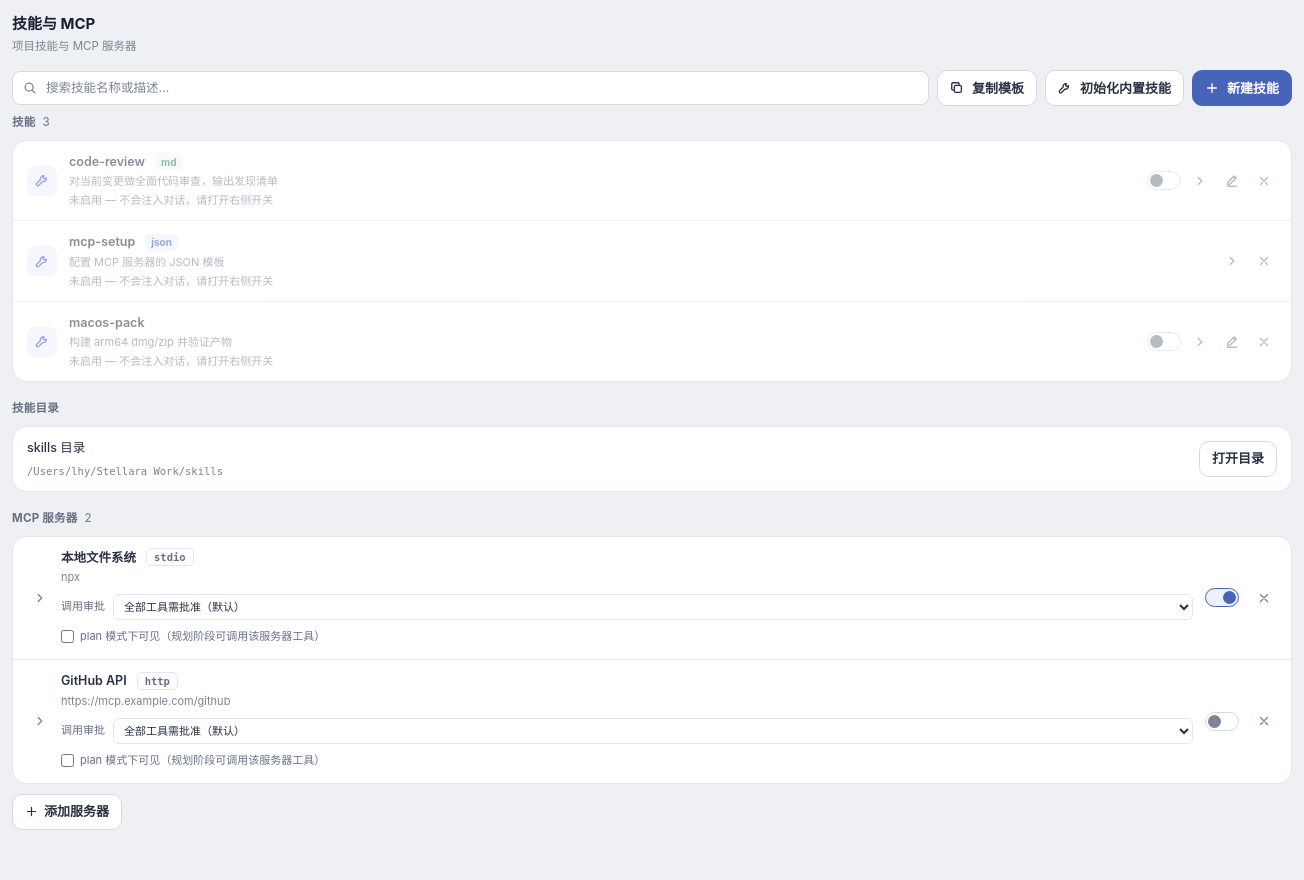
Test: SettingsSkillsMcp（技能与 MCP 面板） › MCP 服务器列表 › expanded row lists tools as checkboxes, all checked by default (empty whitelist)
Click the 1st button with class "settings-mcp-expand": x=38, y=598 [27,587,49,609]
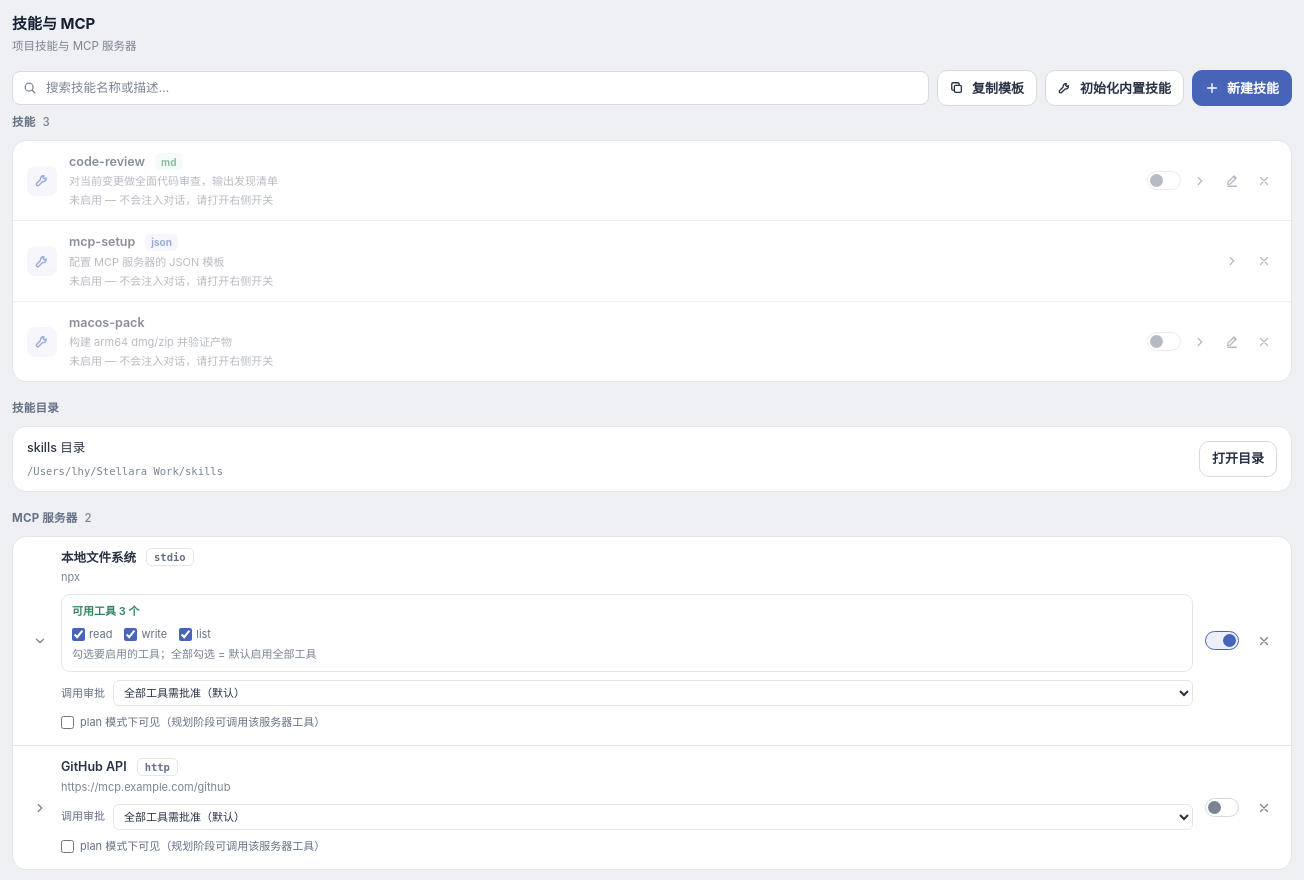
Result: the number of checkboxes with class "settings-mcp-tool__checkbox" is 3 at [72,628,85,641]; [124,628,137,641]; [179,628,192,641]
